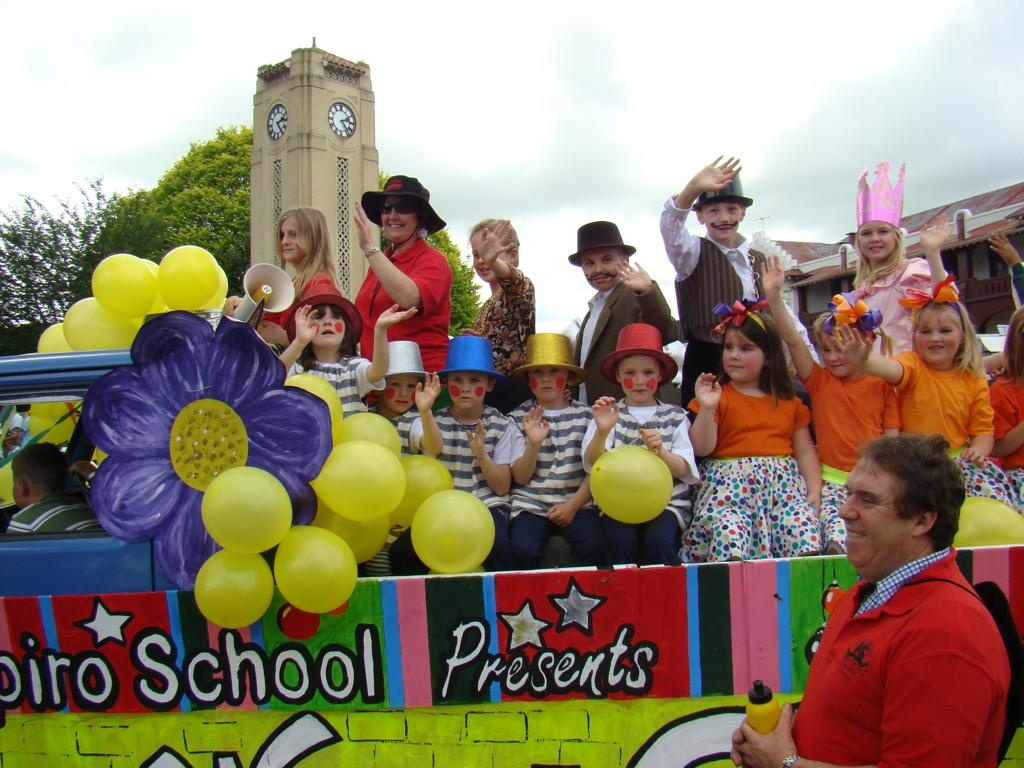human_face: (836, 454, 914, 566), (916, 308, 958, 366), (722, 328, 762, 382), (818, 330, 860, 378), (578, 248, 622, 292), (470, 234, 508, 284), (378, 194, 416, 240), (620, 358, 658, 404), (446, 370, 488, 410), (306, 306, 346, 348), (382, 374, 420, 415), (703, 202, 741, 242), (528, 367, 566, 403), (857, 224, 895, 260), (279, 218, 305, 260)
